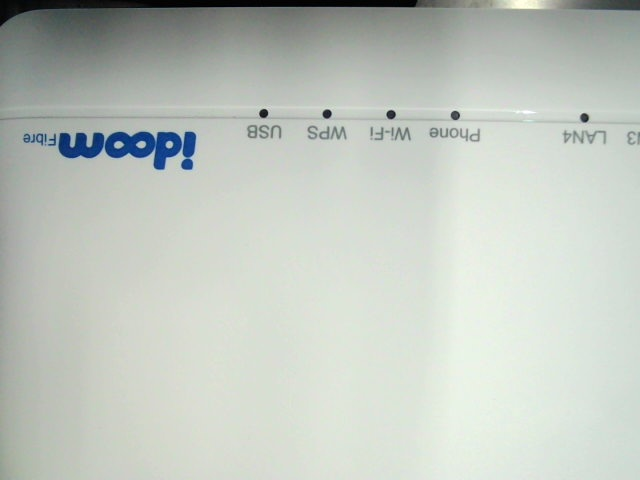BB_idoom: (11, 127, 195, 177)
